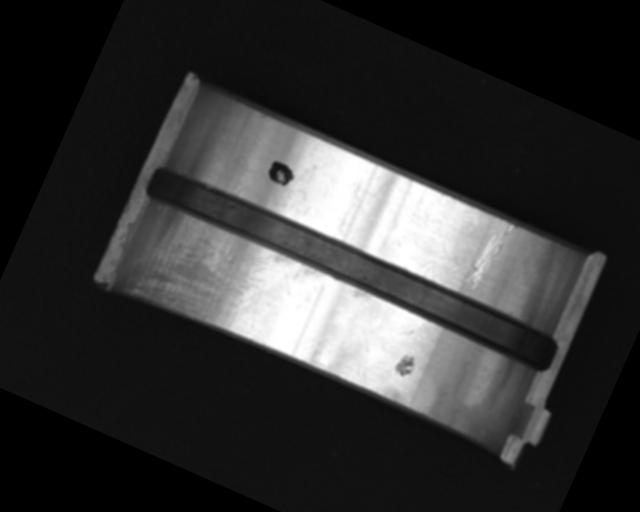blot: (263, 157, 300, 190)
bruise: (390, 348, 421, 382)
gap: (138, 158, 564, 378)
nick: (461, 211, 518, 295)
scratch: (115, 197, 292, 351)
